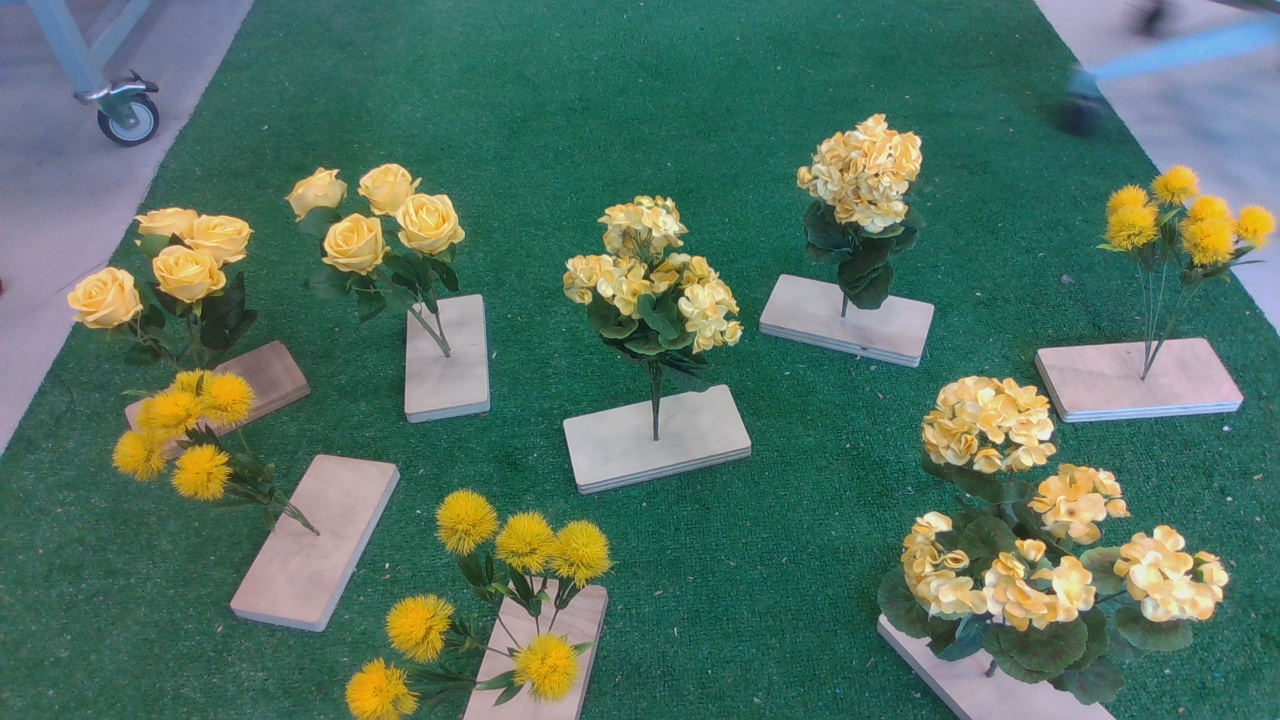dandelion: (344, 493, 622, 720), (74, 374, 298, 522), (1086, 152, 1280, 320)
geranium: (878, 380, 1240, 710), (533, 190, 753, 406), (796, 110, 933, 320)
rose: (283, 161, 475, 336), (66, 206, 268, 369)
